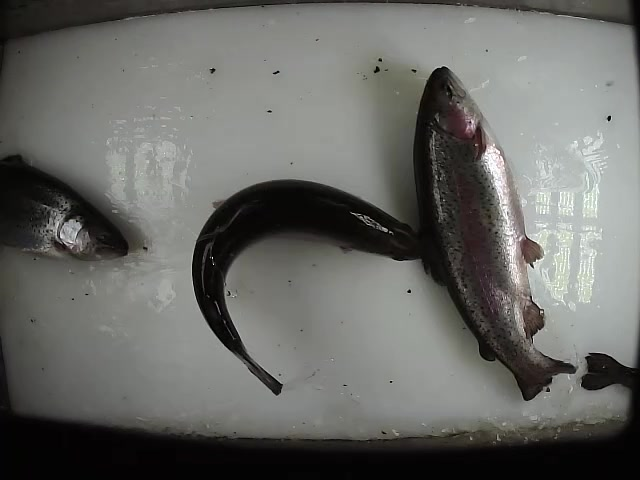fish: (412, 63, 575, 408), (186, 177, 427, 397), (1, 151, 129, 266), (580, 353, 640, 390)
